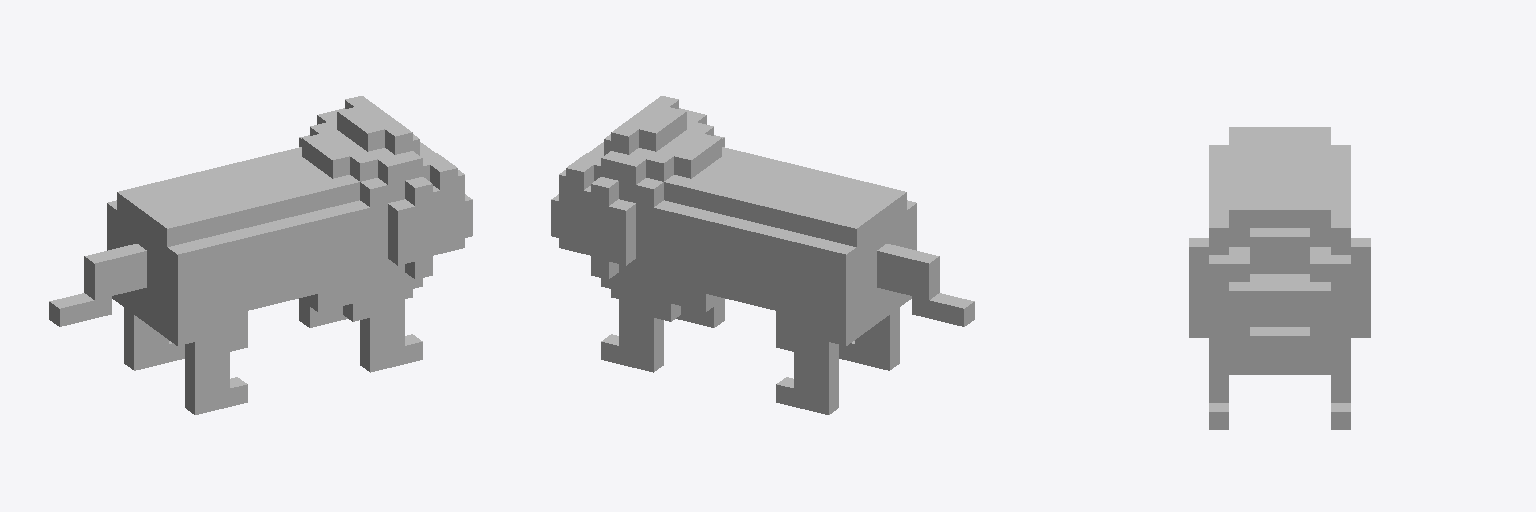
File: lion.obj
The picture shows the model from 3 angles: view 1: azimuth 30°, elevation 25°; view 2: azimuth 150°, elevation 25°; view 3: azimuth 270°, elevation 25°; orthographic projection.
Parts seen in each view (by area): view 1: object 1; view 2: object 1; view 3: object 1.
Part boxes in pixels (x1,y1,x2,y2): object 1: (49, 96, 472, 414); object 1: (551, 96, 974, 414); object 1: (1189, 127, 1370, 429).
Bounding box in the file's own units: 2.3 × 1.2 × 0.9.